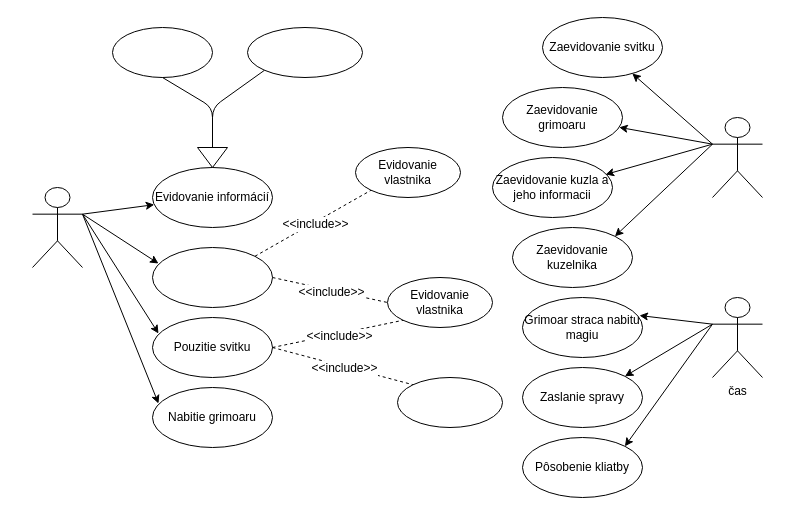
Some shapes in this 799 by 515 pixel diagram are drawn without their labels. Each missing label, with the centre of its shape:
"Evidovanie urovne kuzelnika" goes at (304,52).
"Evidovanie velkosti many" goes at (162,52).
"magicka bytost" goes at (57,227).
"Pouzitie grimoaru" goes at (212,277).
"Rozpadnutie svitkov" goes at (449,402).
"spravca systemu" goes at (737,157).
